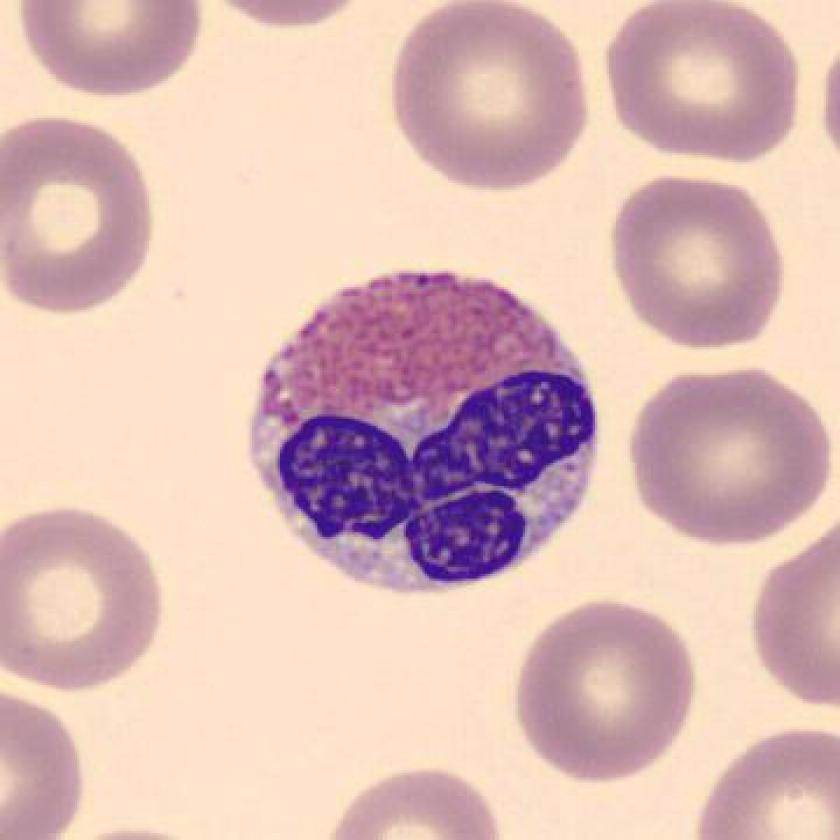eosinophil: (234, 249, 615, 607)
